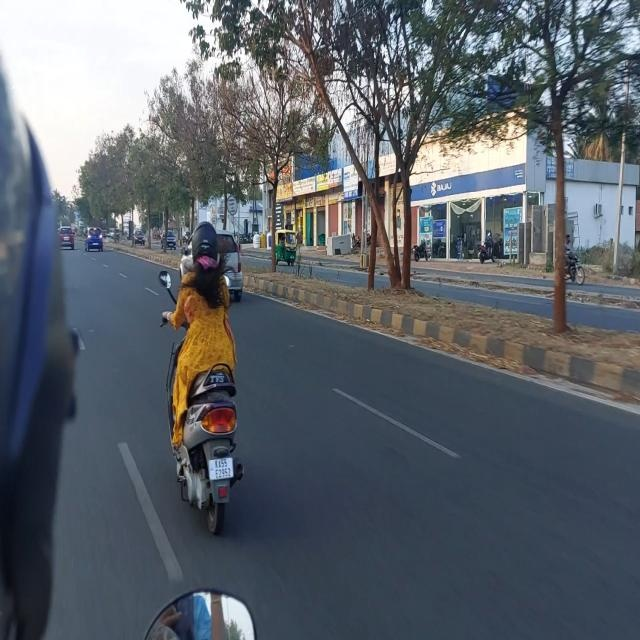bien_cam: (226, 196, 238, 216)
